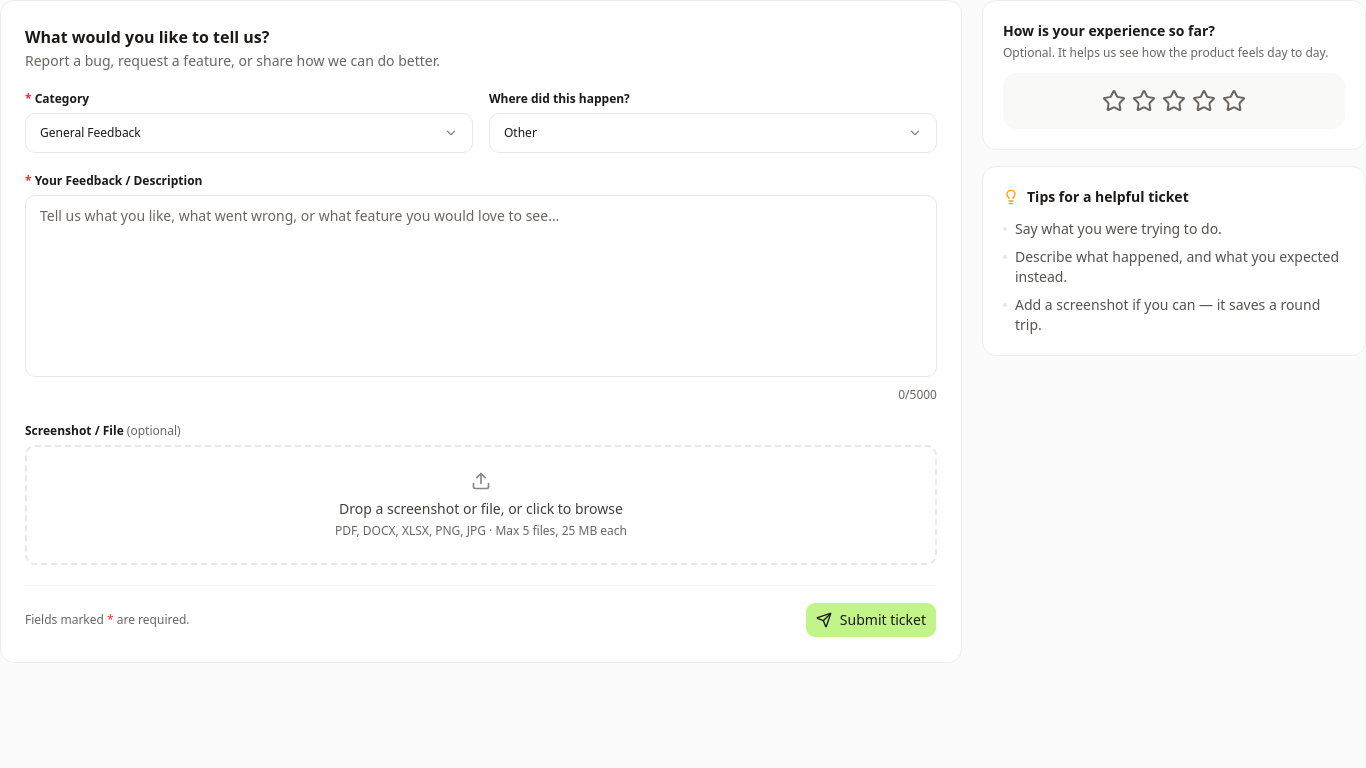
FeedbackSubmitForm validation and failure › asks for a description and files nothing without one
This screenshot has width=1366, height=768.
Click the button "Submit ticket" at (871, 620), box left=805, top=602, right=937, bottom=638
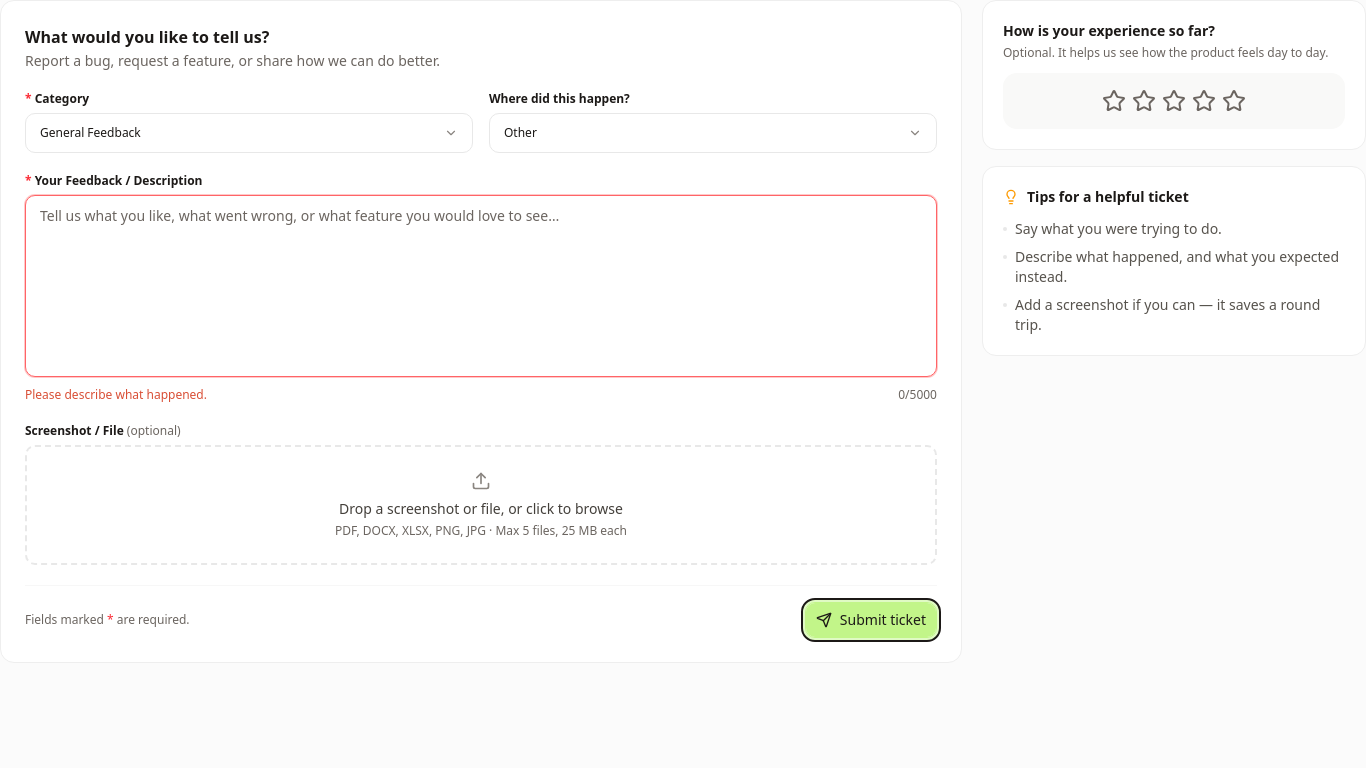
Now the text "Please describe what happened." is shown, box left=25, top=387, right=207, bottom=403
